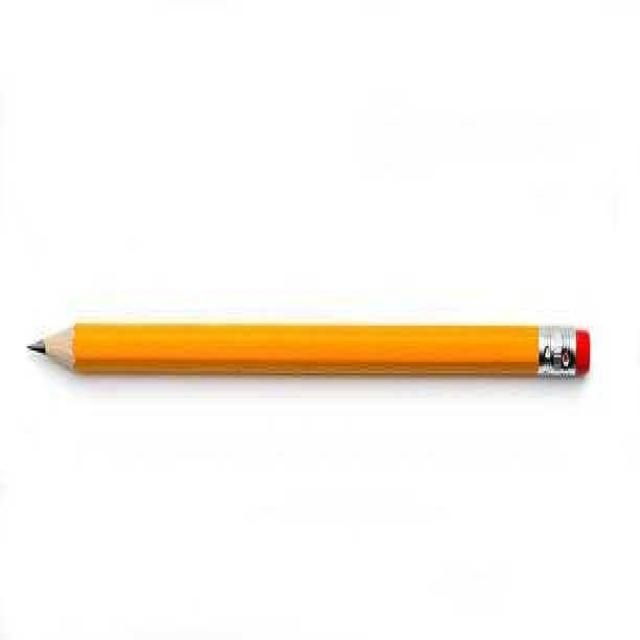pencil: (17, 288, 608, 402)
